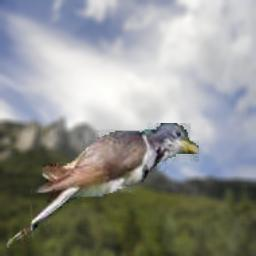Cuckoo: (0, 123, 199, 253)
